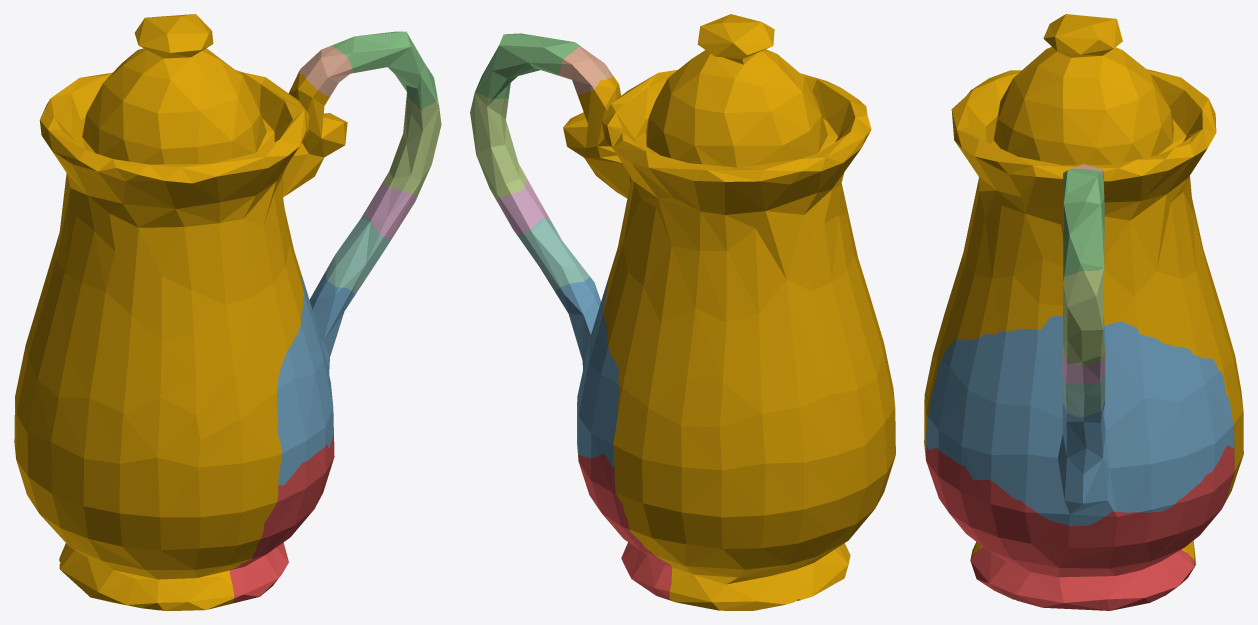
File: fractured_66_8pcs.glb
3 renders of one model, left to right at view 1: azimuth 30°, elevation 25°; view 2: azimuth 150°, elevation 25°; view 3: azimuth 270°, elevation 25°, orthographic.
Parts seen in each view (by area): view 1: piece_0.obj, piece_2.obj, piece_1.obj, piece_3.obj, piece_5.obj, piece_4.obj, piece_6.obj, piece_7.obj; view 2: piece_0.obj, piece_2.obj, piece_1.obj, piece_5.obj, piece_3.obj, piece_4.obj, piece_6.obj, piece_7.obj; view 3: piece_0.obj, piece_2.obj, piece_1.obj, piece_3.obj, piece_5.obj, piece_4.obj, piece_6.obj.
Boxes of the visible parts, <box> form: piece_0.obj: <box>14,14,347,610</box>; piece_2.obj: <box>276,272,355,485</box>; piece_1.obj: <box>229,434,334,603</box>; piece_3.obj: <box>331,31,437,110</box>; piece_5.obj: <box>383,86,441,195</box>; piece_4.obj: <box>325,215,391,293</box>; piece_6.obj: <box>362,181,417,239</box>; piece_7.obj: <box>298,45,353,96</box>; piece_0.obj: <box>563,14,895,610</box>; piece_2.obj: <box>555,276,619,466</box>; piece_1.obj: <box>578,454,672,600</box>; piece_5.obj: <box>470,92,526,199</box>; piece_3.obj: <box>475,33,580,99</box>; piece_4.obj: <box>517,218,589,291</box>; piece_6.obj: <box>496,179,550,235</box>; piece_7.obj: <box>558,46,613,93</box>; piece_0.obj: <box>924,14,1243,564</box>; piece_2.obj: <box>926,316,1234,525</box>; piece_1.obj: <box>926,444,1234,610</box>; piece_3.obj: <box>1063,168,1104,276</box>; piece_5.obj: <box>1062,268,1104,365</box>; piece_4.obj: <box>1062,373,1104,417</box>; piece_6.obj: <box>1062,351,1104,383</box>.
Size of the model in its own units: 0.7666 by 1 by 0.5311.
